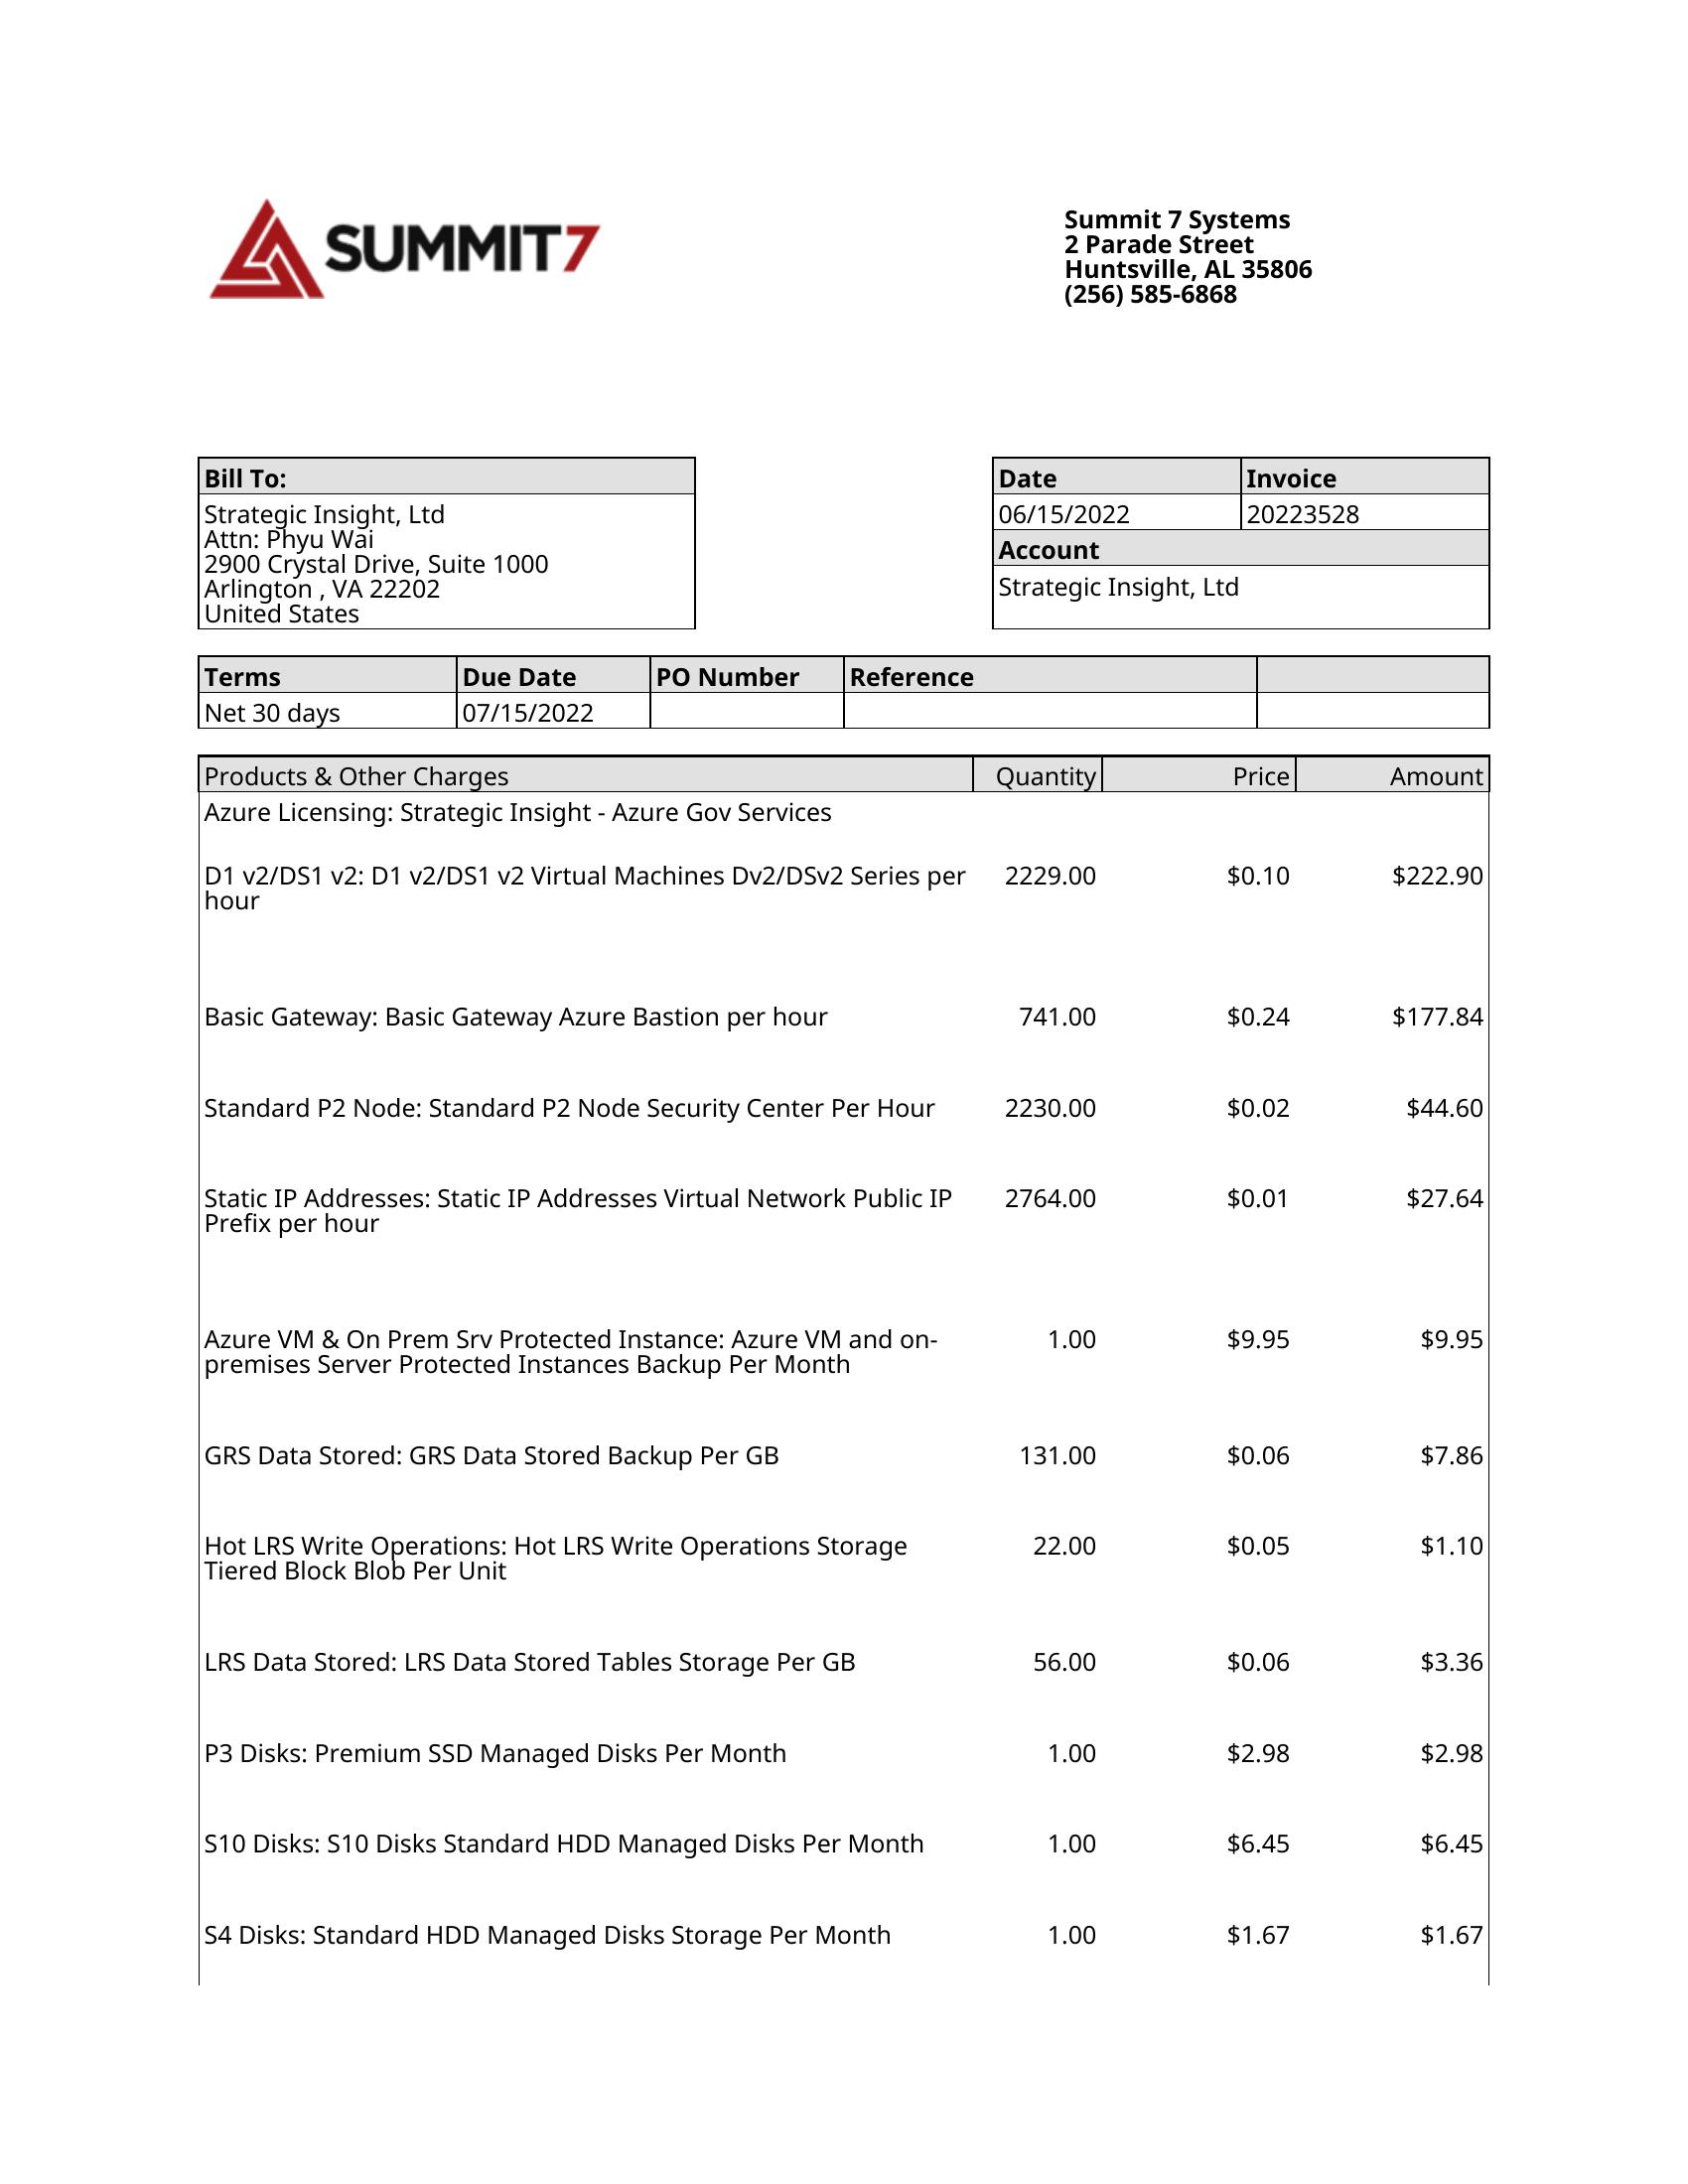table: (195, 757, 1523, 2005), (195, 658, 1498, 732)
